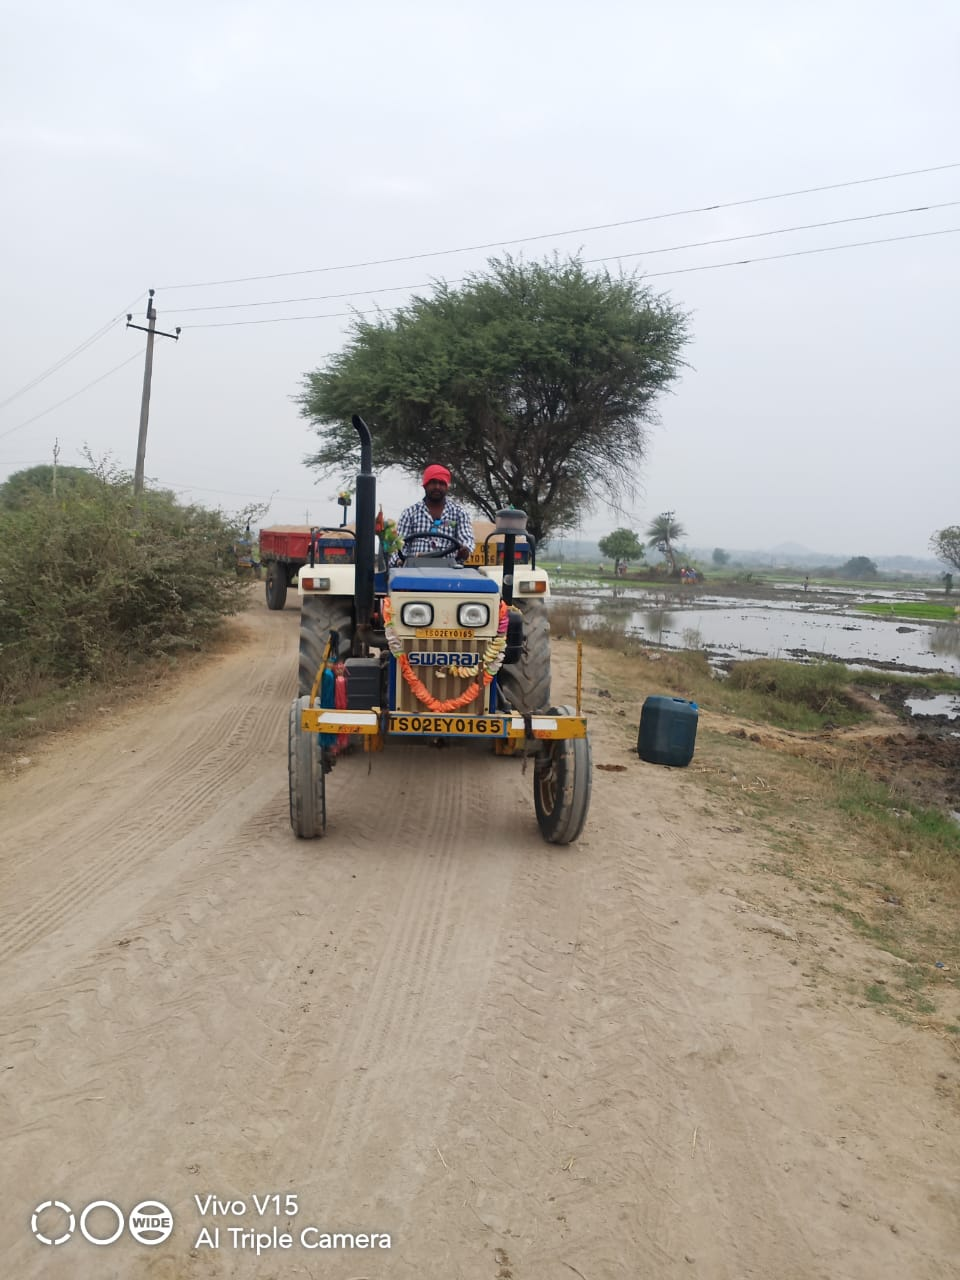license_plate: (382, 708, 514, 745)
